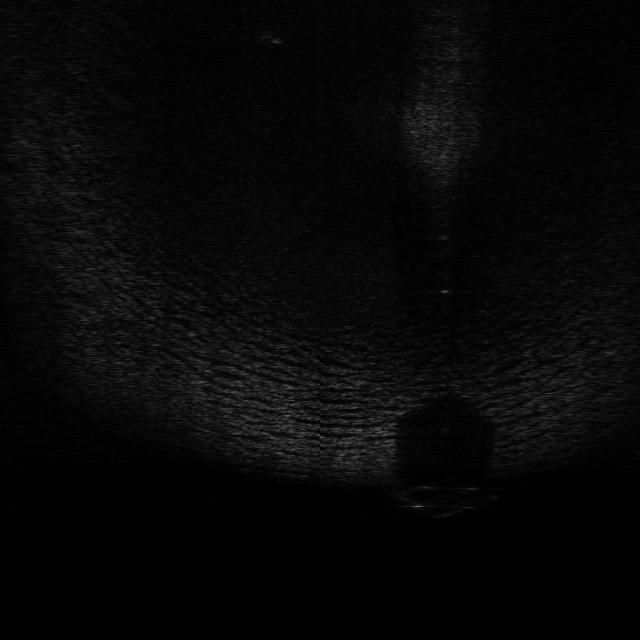cube: (390, 476, 500, 521)
